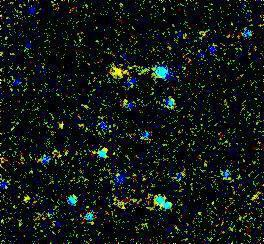star: (104, 57, 134, 87)
